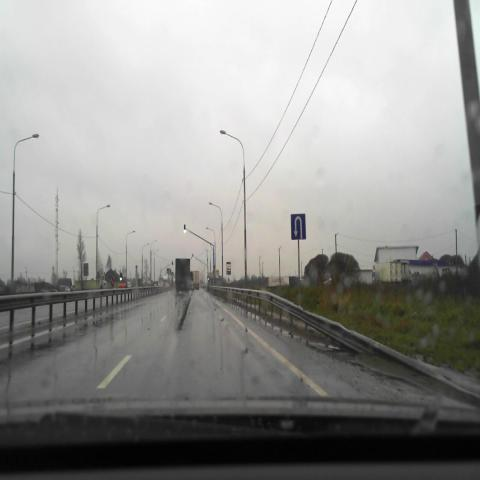6_3_1: (291, 214, 306, 240)
